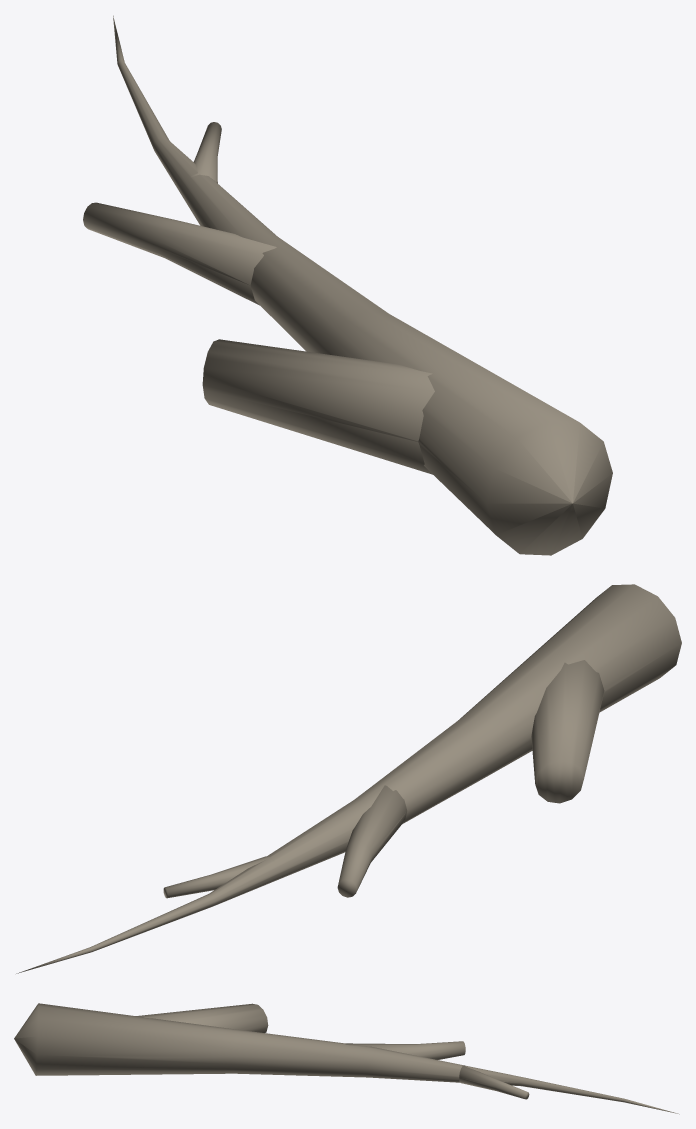
The model's file is small branch.fbx.
3 renders of one model, top to bottom at view 1: azimuth 30°, elevation 25°; view 2: azimuth 150°, elevation 25°; view 3: azimuth 270°, elevation 25°, orthographic. The views are drawn at different scales.
Visible parts, largest first — view 1: SketchUp; view 2: SketchUp; view 3: SketchUp.
Part boxes in pixels (left/top/right/bottom): SketchUp: left=83, top=15, right=612, bottom=555; SketchUp: left=16, top=584, right=681, bottom=973; SketchUp: left=14, top=1003, right=679, bottom=1114.
Bounding box in the file's own units: 30.27 × 11.04 × 101.
